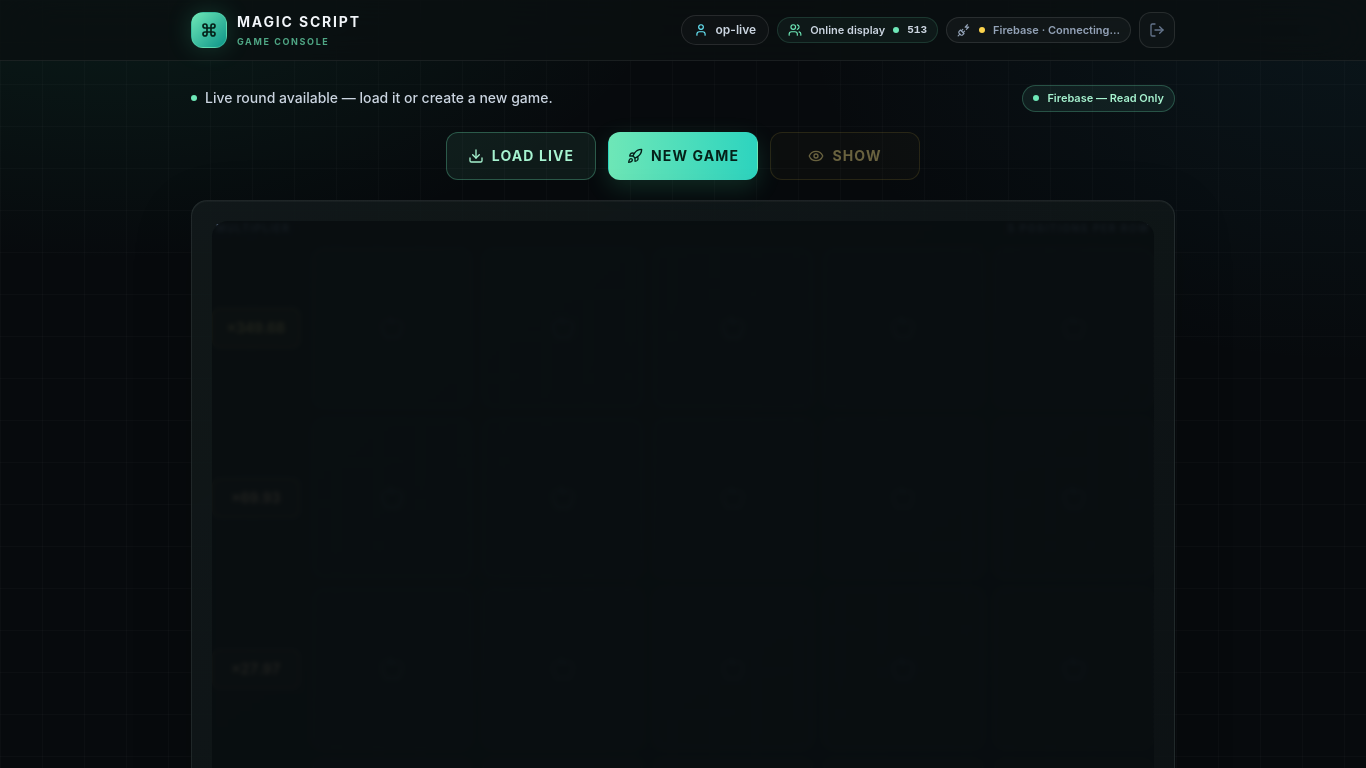
Console — live Firebase mirror mode › freezes the round during SHOW even if the snapshot changes mid-reveal
Click the button with aria-label "load live round". click: (521, 156)
box: [446,132,596,180]
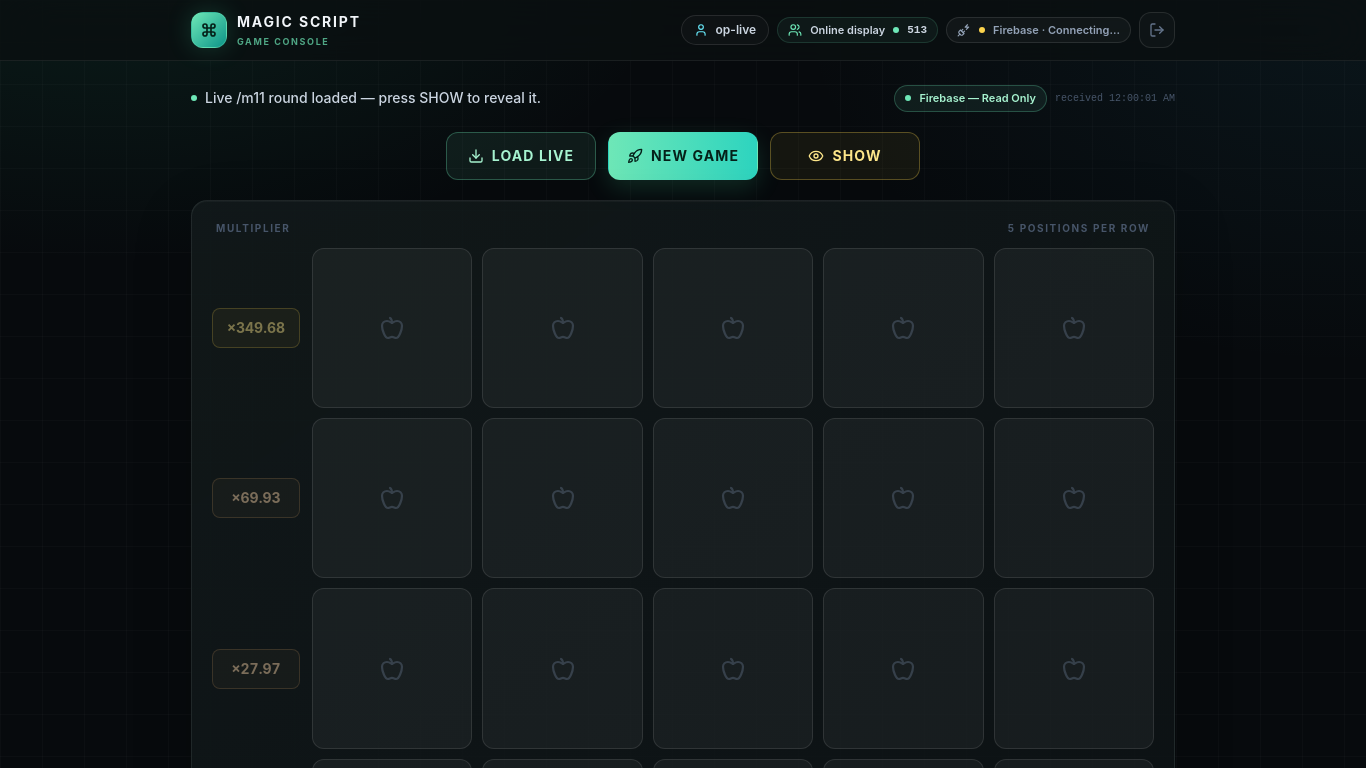
Click the button "Show". click: (845, 156)
box: [770,132,920,180]
Wait 6500 ms
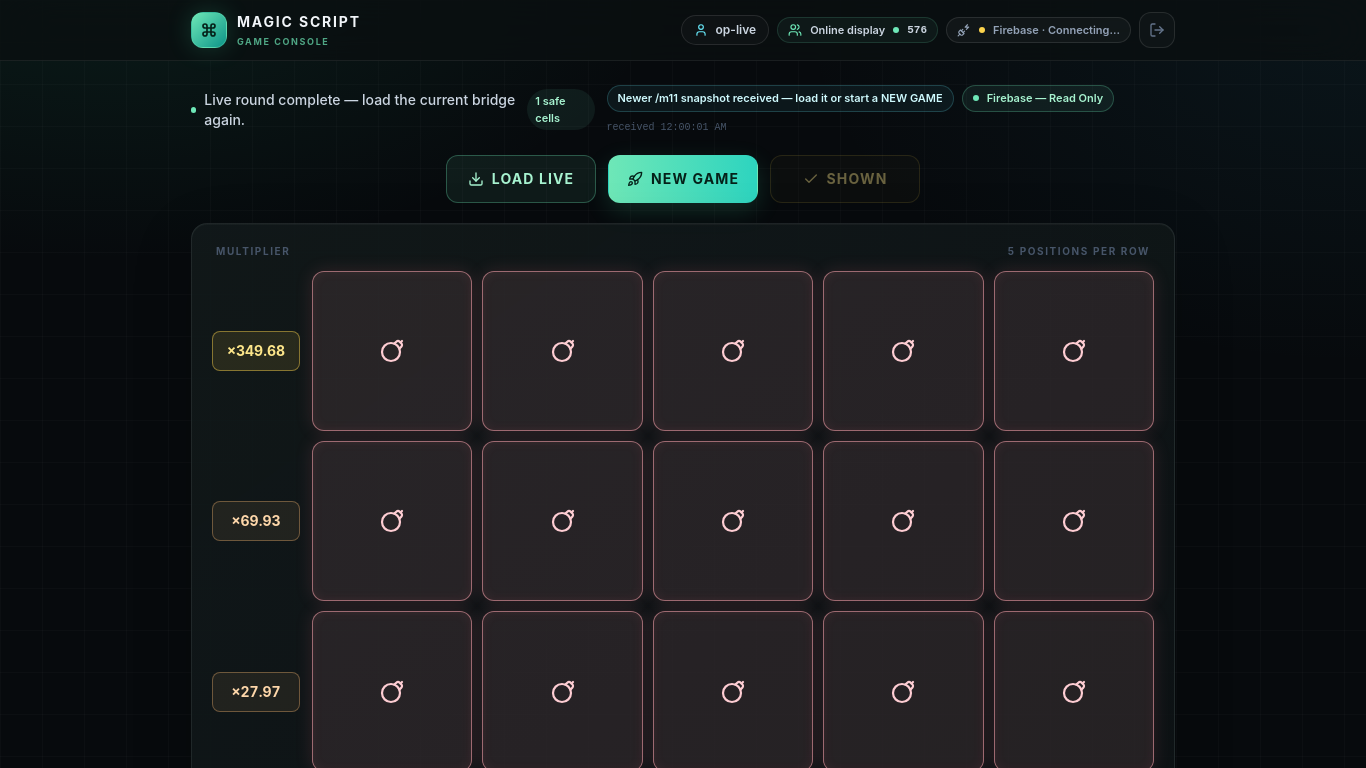
Expected: the text "Newer /m11 snapshot received — load it or start a NEW GAME" is shown, [606,85,954,112]
